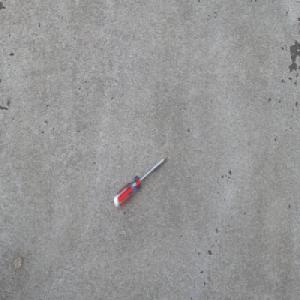Screwdriver: (112, 155, 168, 208)
